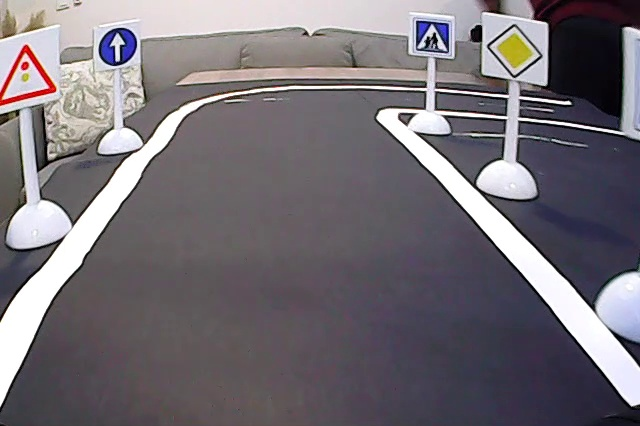red light: (1, 40, 60, 109)
school crossing: (412, 16, 452, 56)
